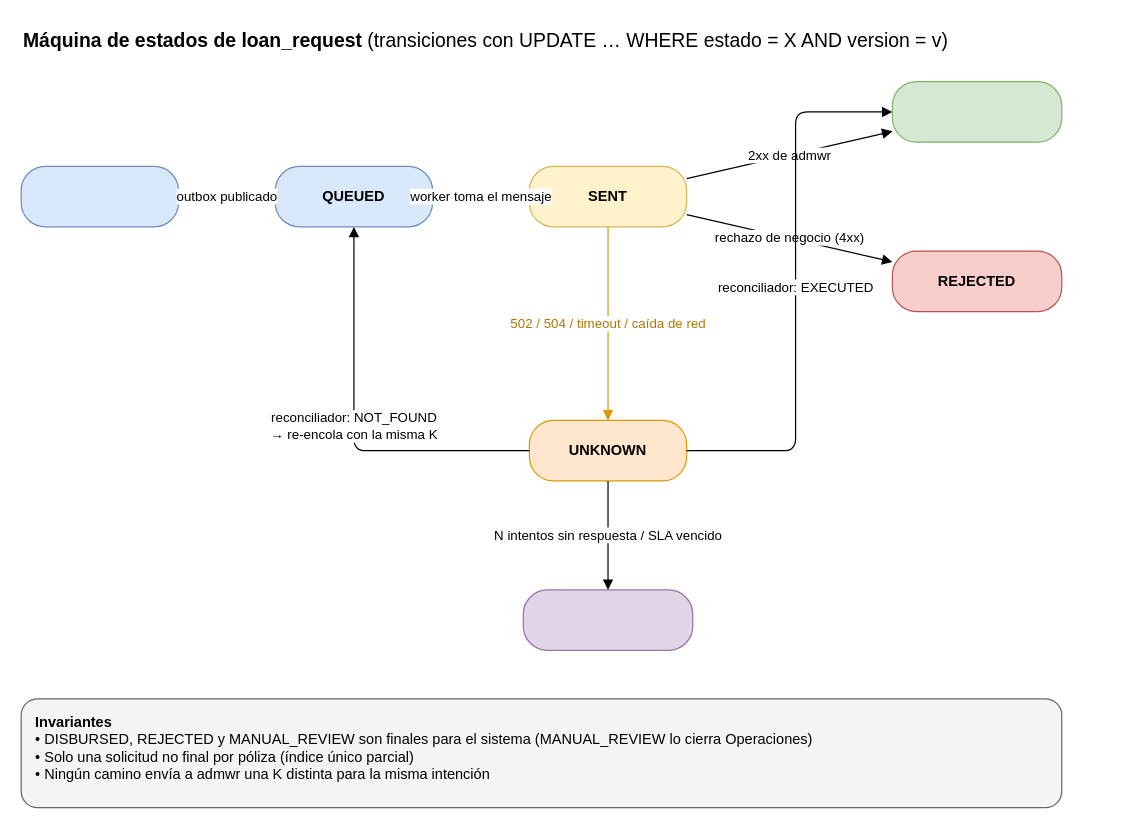
This 1131x829 diagram has some shape labels left out. Here are the shapes that lost their labels. From the top down, the box of each, then its label:
(891, 80, 1062, 142): DISBURSED
(20, 165, 178, 227): RECEIVED
(522, 589, 693, 650): MANUAL_REVIEW
